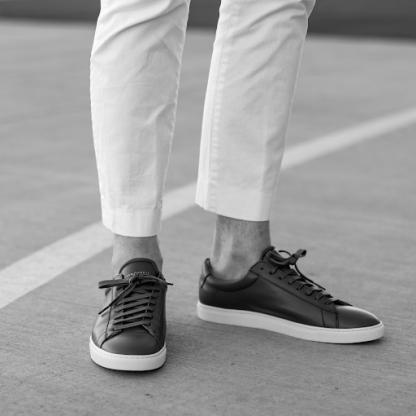ankle: (161, 277, 163, 280), (229, 284, 231, 286)
heel: (164, 319, 166, 320), (201, 300, 202, 301)
left_foot: (197, 256, 384, 343)
pinky: (101, 344, 105, 348), (364, 312, 366, 314)
right_foot: (91, 243, 168, 372)
toe: (156, 347, 159, 350), (352, 326, 354, 328)
